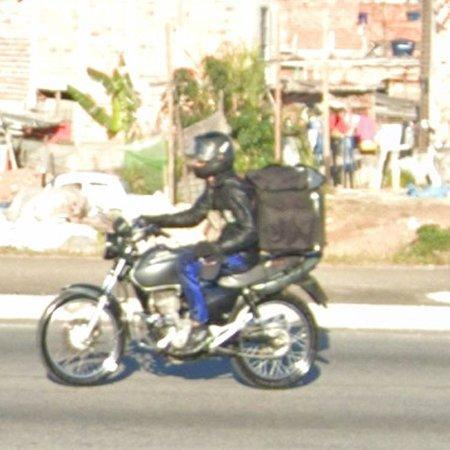motorcycles: (39, 225, 325, 389)
